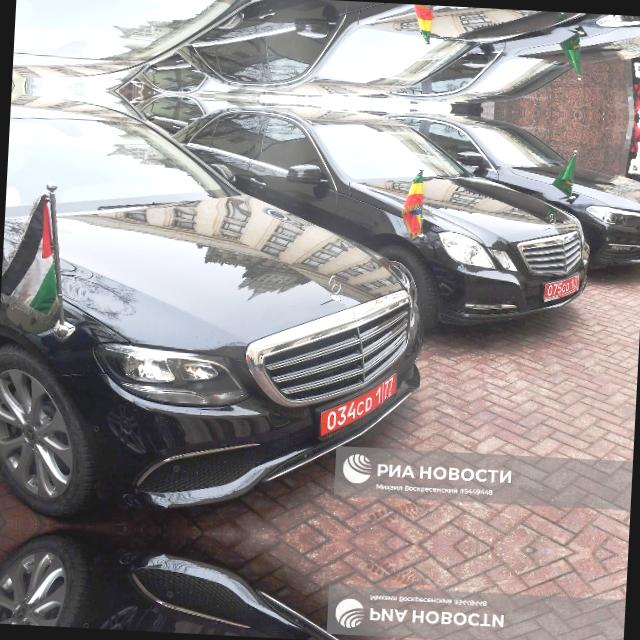diplomatic: (316, 362, 401, 444), (542, 266, 580, 309)
